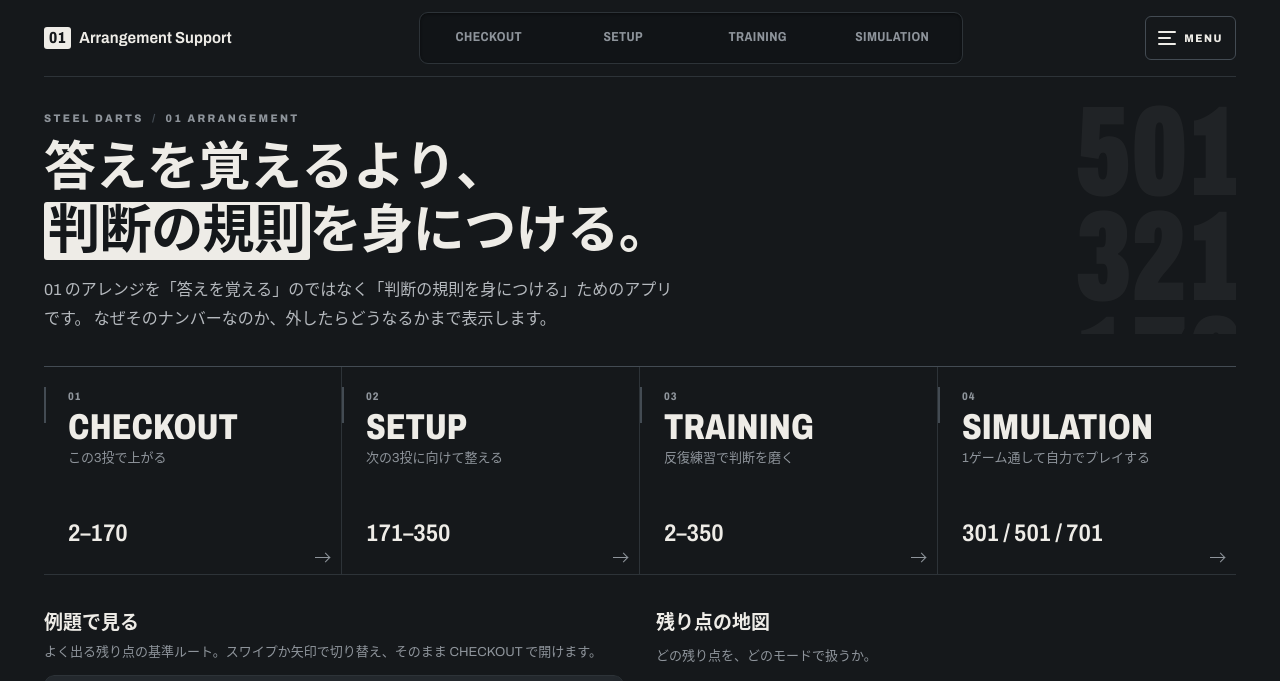
Test: CHECKOUT 画面 › 103 の基準ルートと理由を表示する
The width and height of the screenshot is (1280, 681).
Click the button with test id "nav-checkout" at (489, 38), box [422,16,555,60]
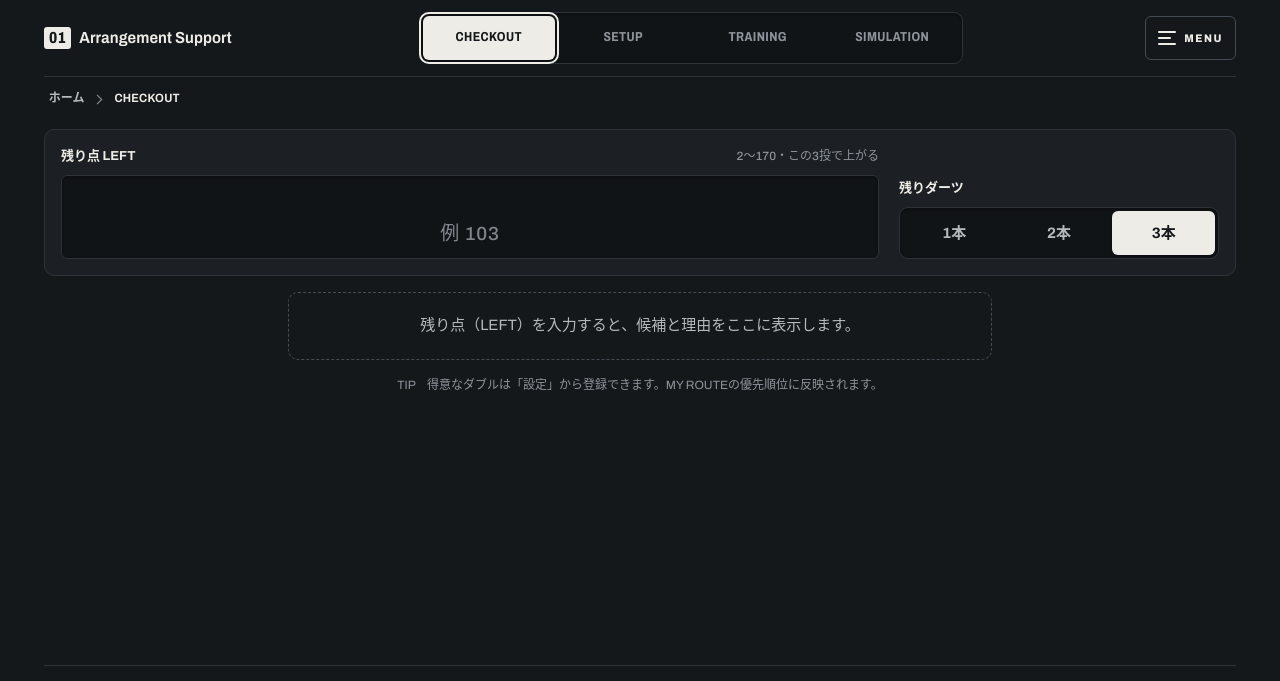
Type "103" into the field with test id "score-input" showing "残り点 LEFT 2〜170・この3投で上がる" at (470, 217), box [78,182,862,253]
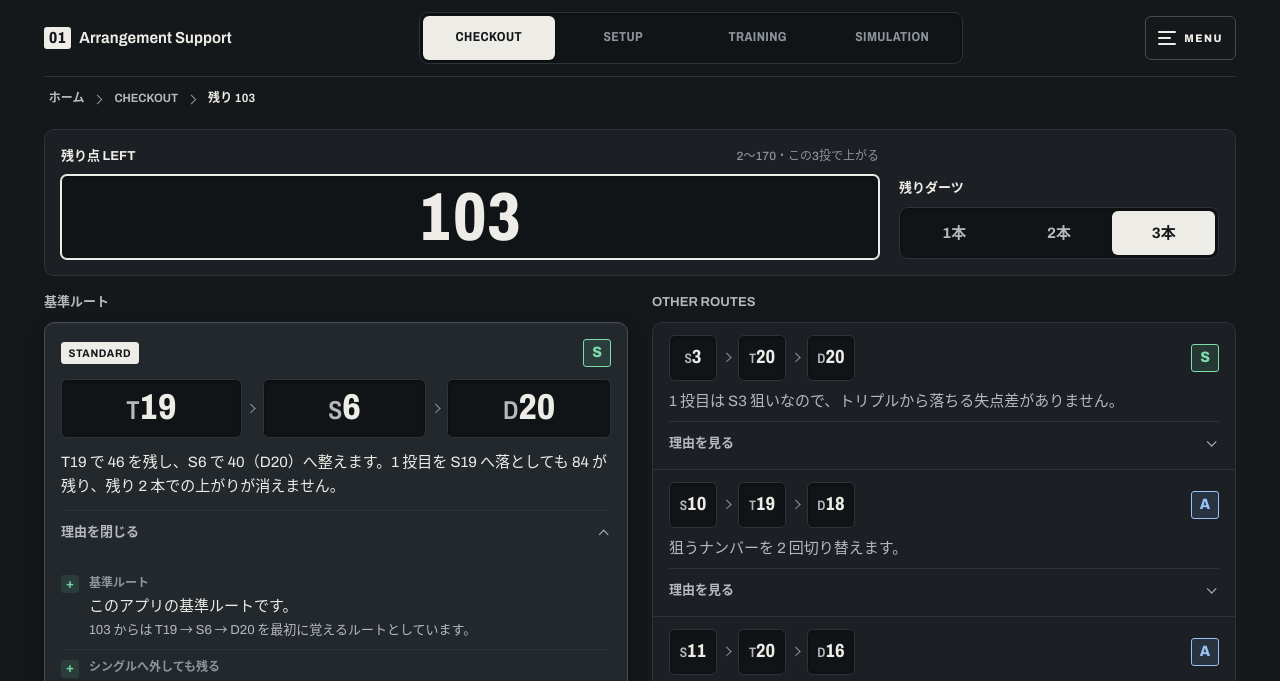
Now the button "T19" below "STANDARD" is shown, box [61,379,242,438]
Now the button "S6" is shown, box [263,379,426,438]
Now the 2nd button "D20" is shown, box [447,379,611,438]
